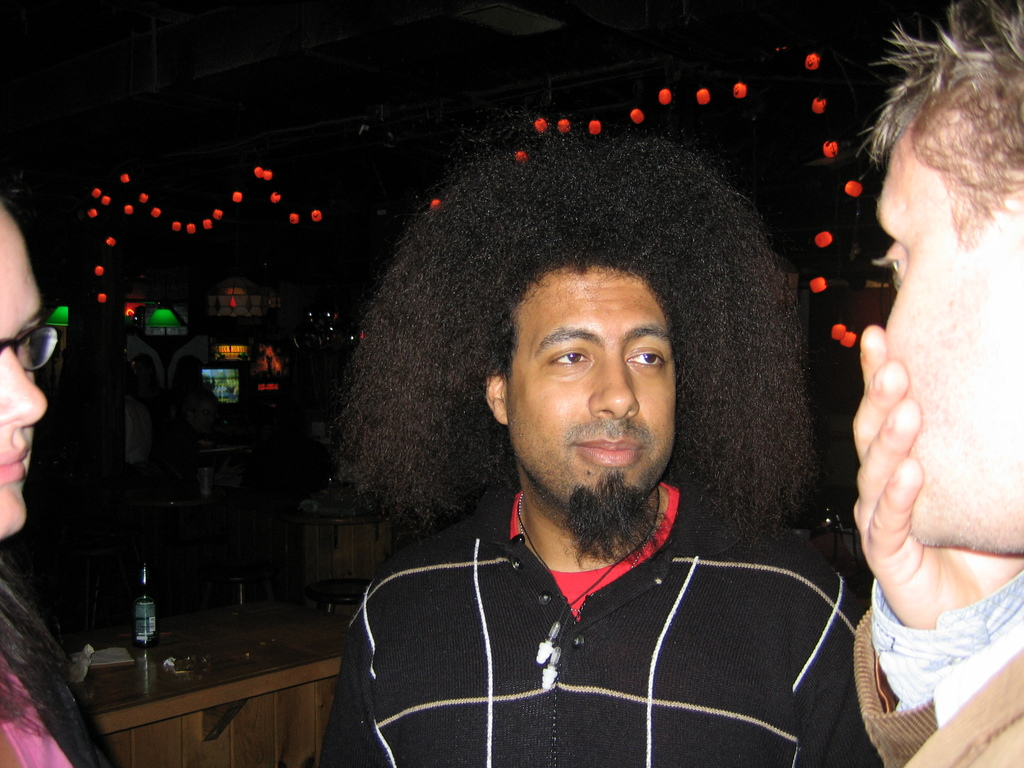Cabinetry: (94, 604, 381, 756)
